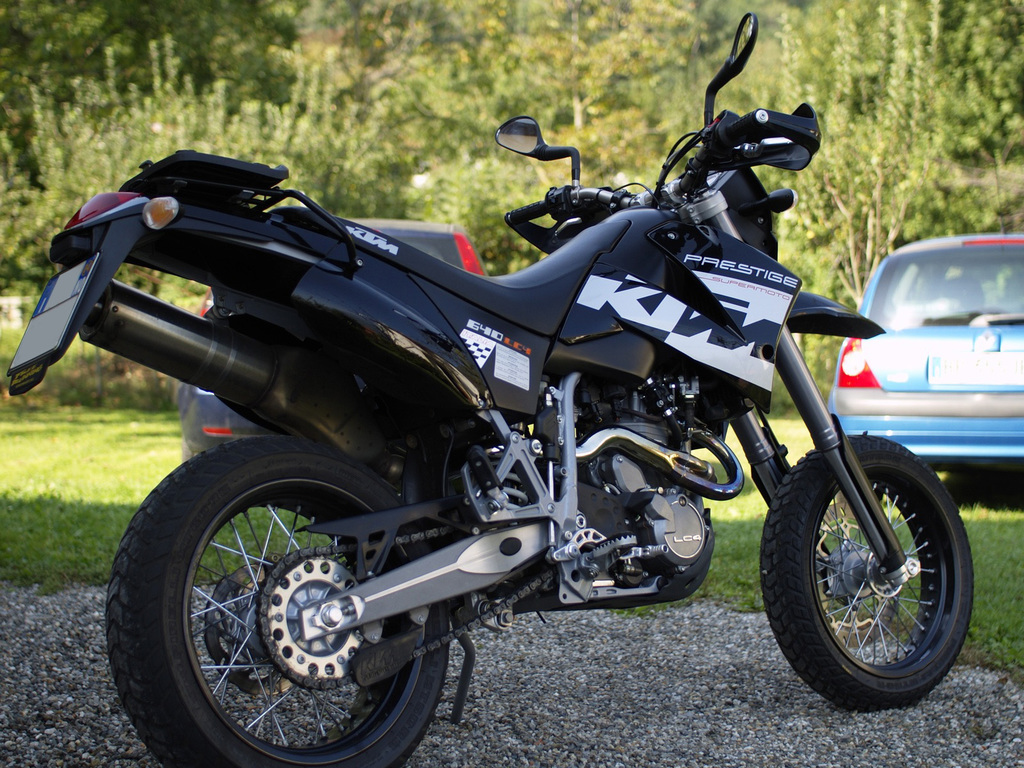Car: (874, 232, 1020, 468)
